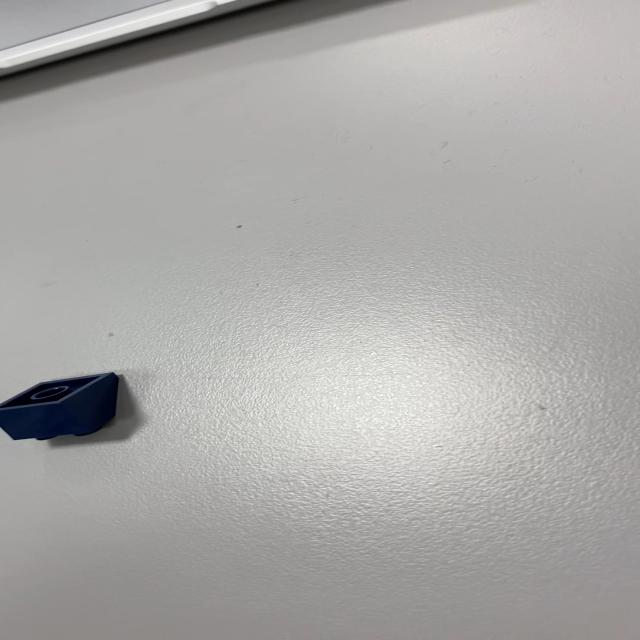P2x2x1: (0, 370, 120, 441)
